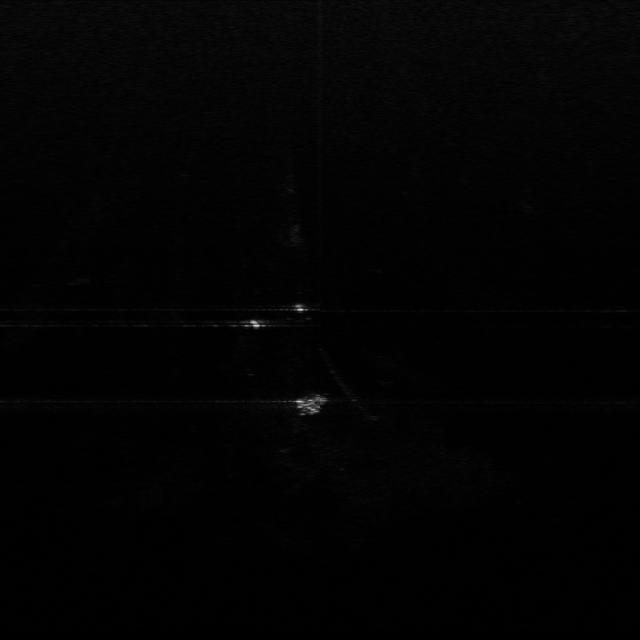rov: (294, 394, 334, 416)
